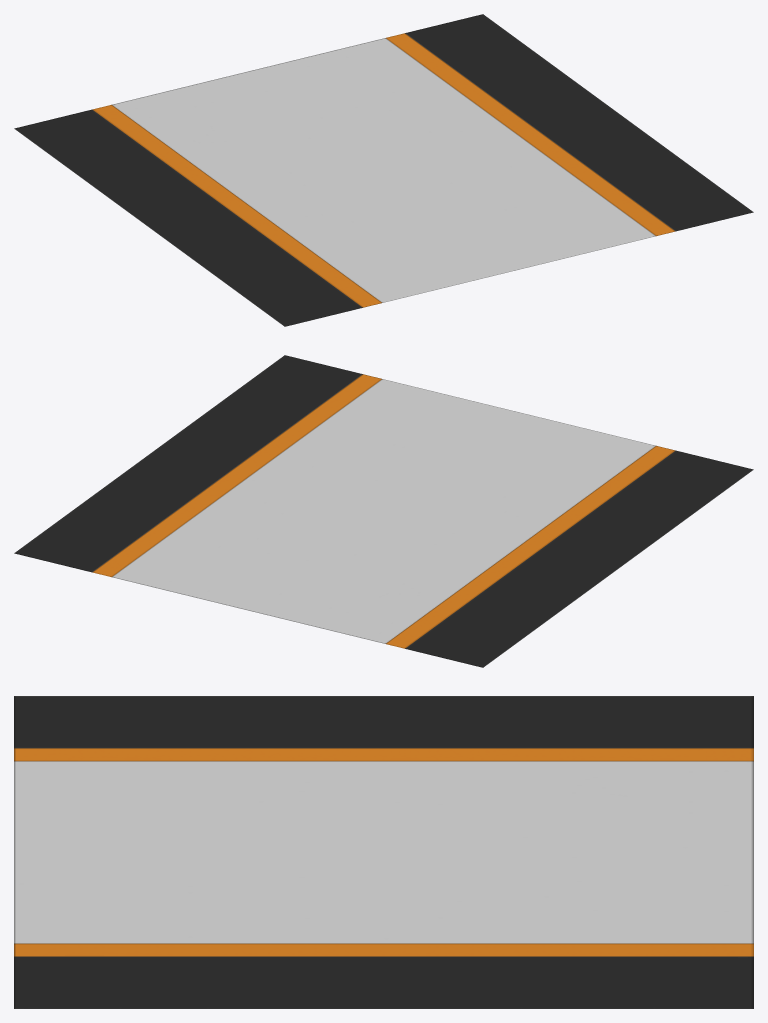
The model's file is Floor_Normal_01.FBX.
3 views of the same model, one above another, from view 1: azimuth 30°, elevation 25°; view 2: azimuth 150°, elevation 25°; view 3: azimuth 270°, elevation 25° (orthographic). The views are drawn at different scales.
Parts seen in each view (by area): view 1: Floor_Normal_01; view 2: Floor_Normal_01; view 3: Floor_Normal_01.
Part boxes in pixels (x1=…): Floor_Normal_01: x1=14, y1=14, x2=753, y2=326; Floor_Normal_01: x1=14, y1=355, x2=753, y2=667; Floor_Normal_01: x1=14, y1=696, x2=753, y2=1008.
Bounding box in the file's own units: 6 × 3.67e-16 × 6.
